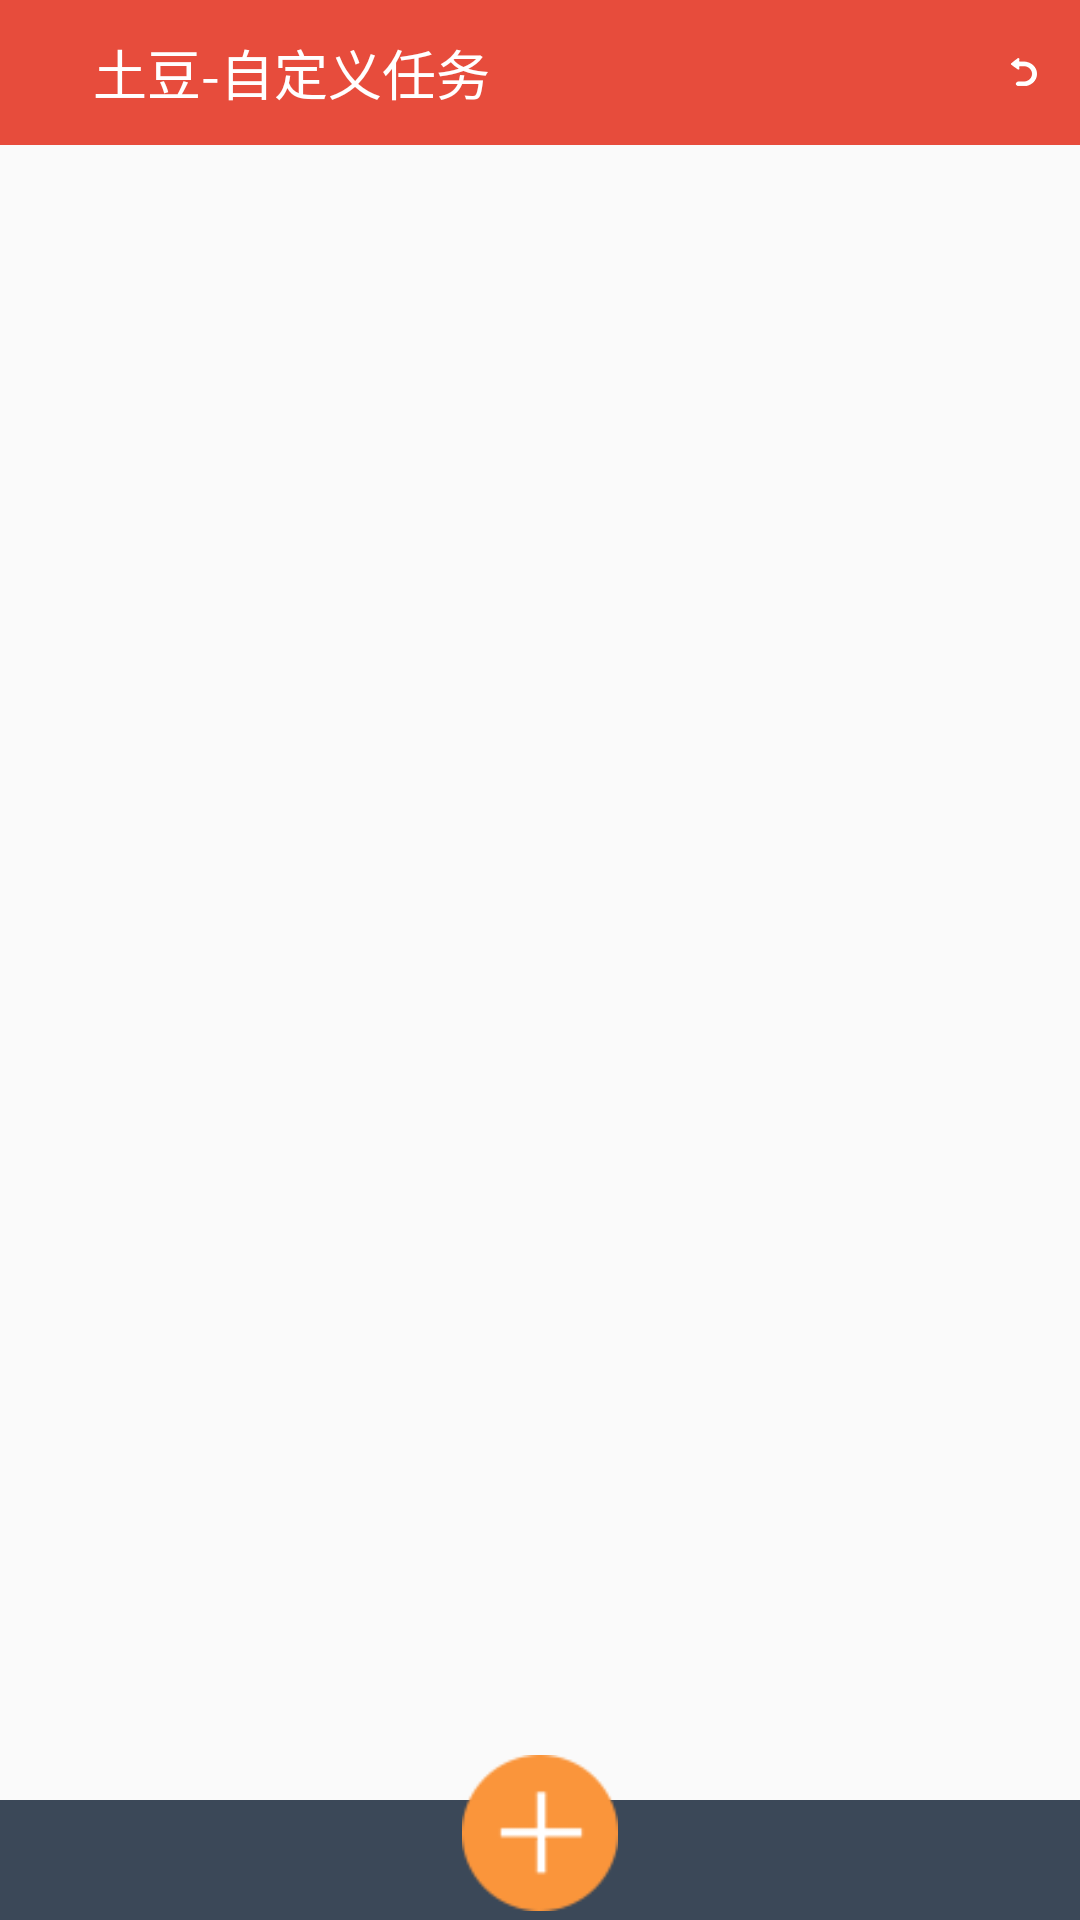

Named icons in this screenshot (1080x1920) and their centers, point (x, y):
back: point (1024, 72)
